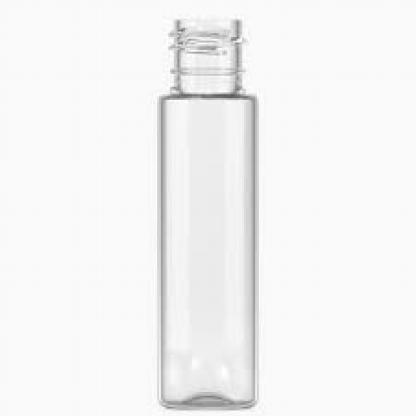trash: (160, 19, 255, 408)
